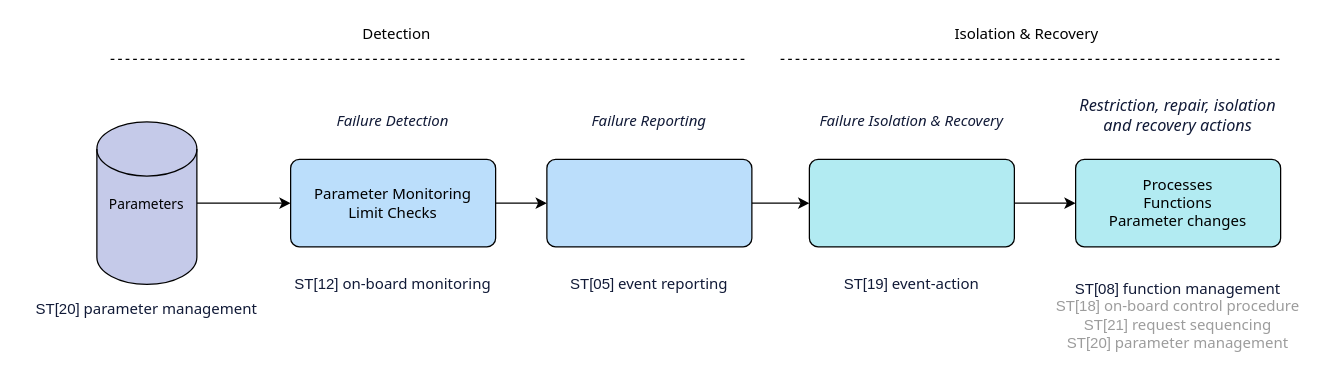
The diagram is 1330 pixels wide and 373 high, and some of its shapes have lost their labels. Each missing label, with the box of its shape:
Create event Report event: (546, 158, 752, 247)
Event-action: (808, 158, 1014, 247)
